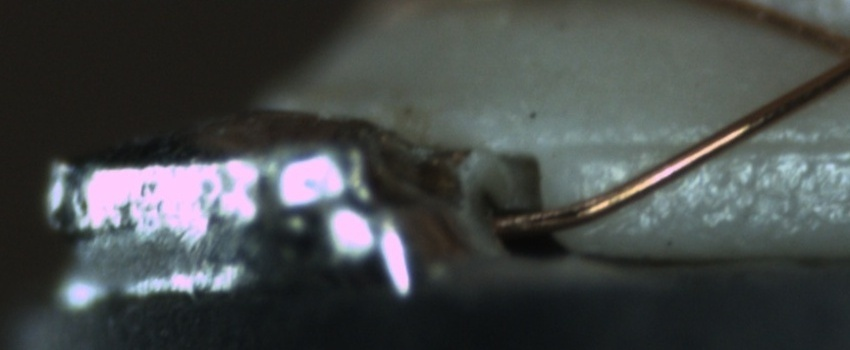CL: (808, 10, 850, 89)
DL: (567, 113, 848, 177)
